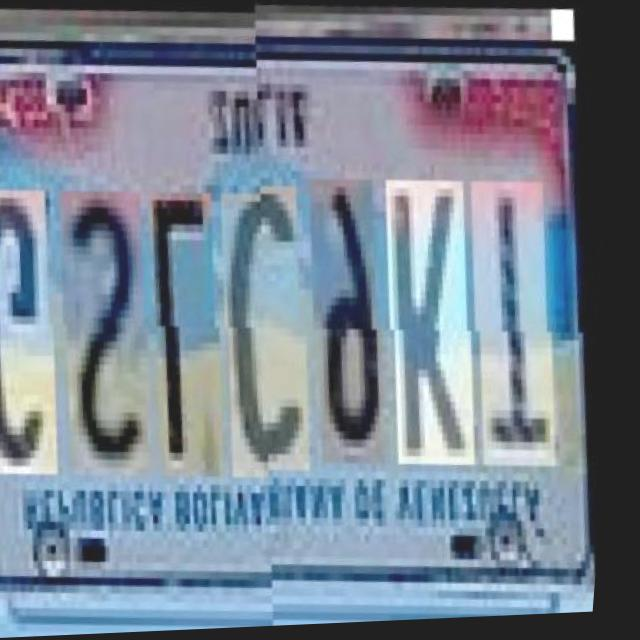9: (311, 173, 414, 465)
c: (222, 180, 337, 473)
g: (0, 178, 86, 470)
k: (386, 174, 503, 467)
l: (149, 180, 252, 472)
s: (59, 178, 180, 471)
t: (473, 175, 585, 468)
